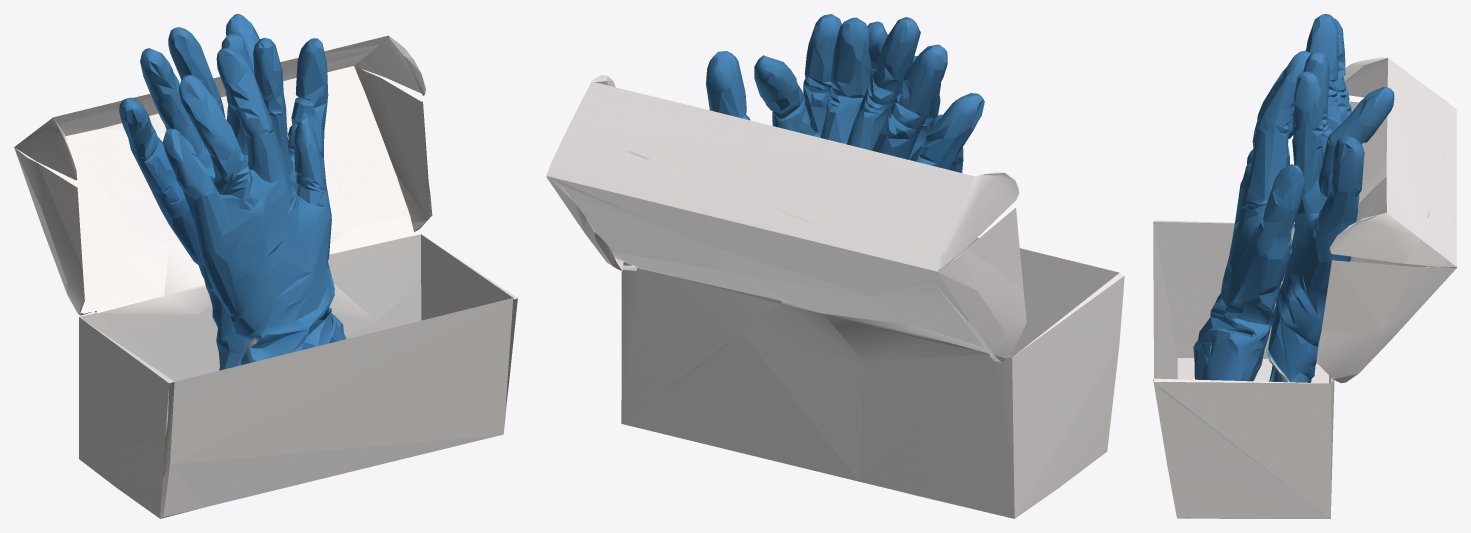
File: guanti_N.glb
3 renders of one model, left to right at view 1: azimuth 30°, elevation 25°; view 2: azimuth 150°, elevation 25°; view 3: azimuth 270°, elevation 25°, orthographic. The views are drawn at different scales.
Size of the model in its own units: 1.68 by 1.9 by 1.33.
1 material, 1 textured.
